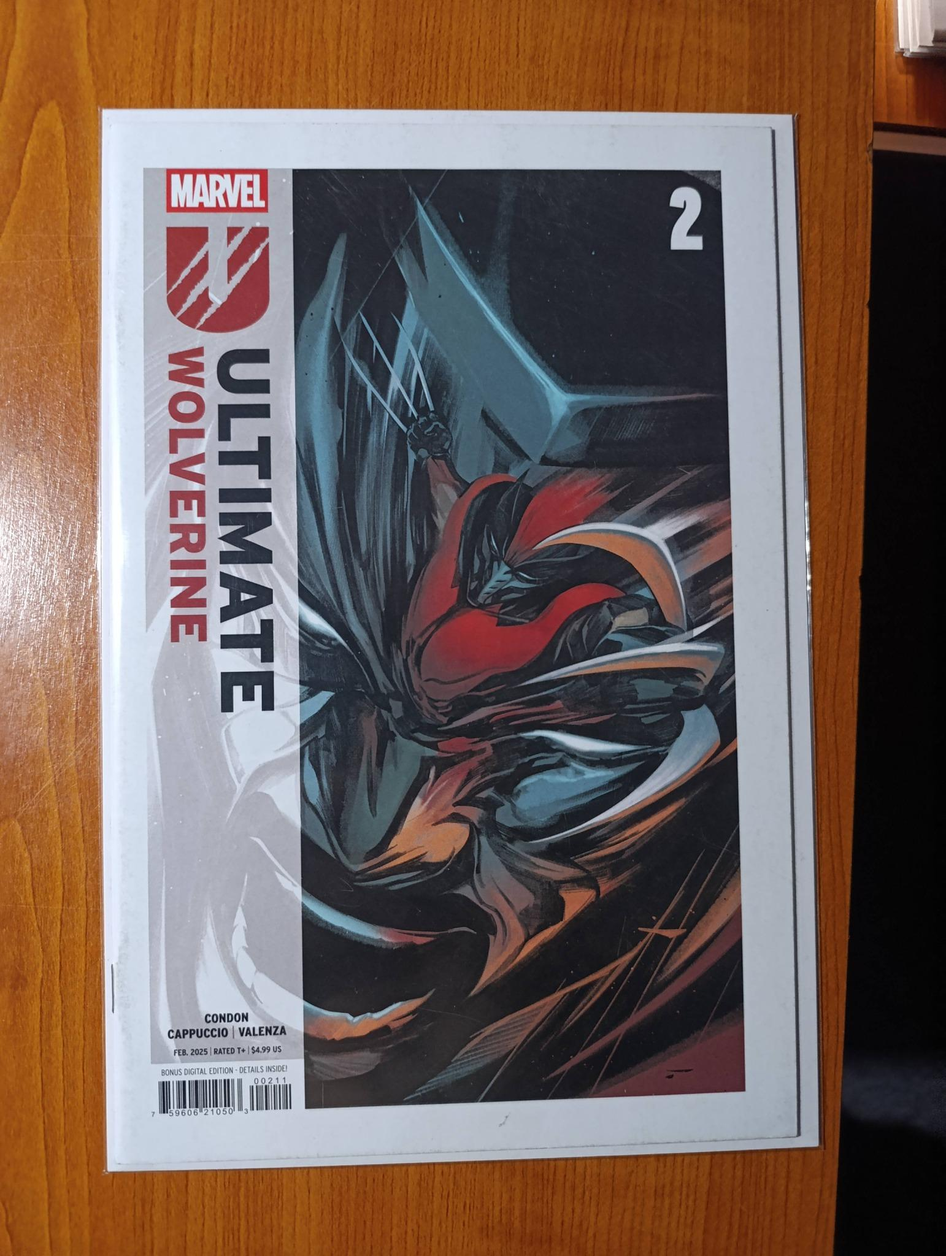comic: (96, 104, 818, 1169)
